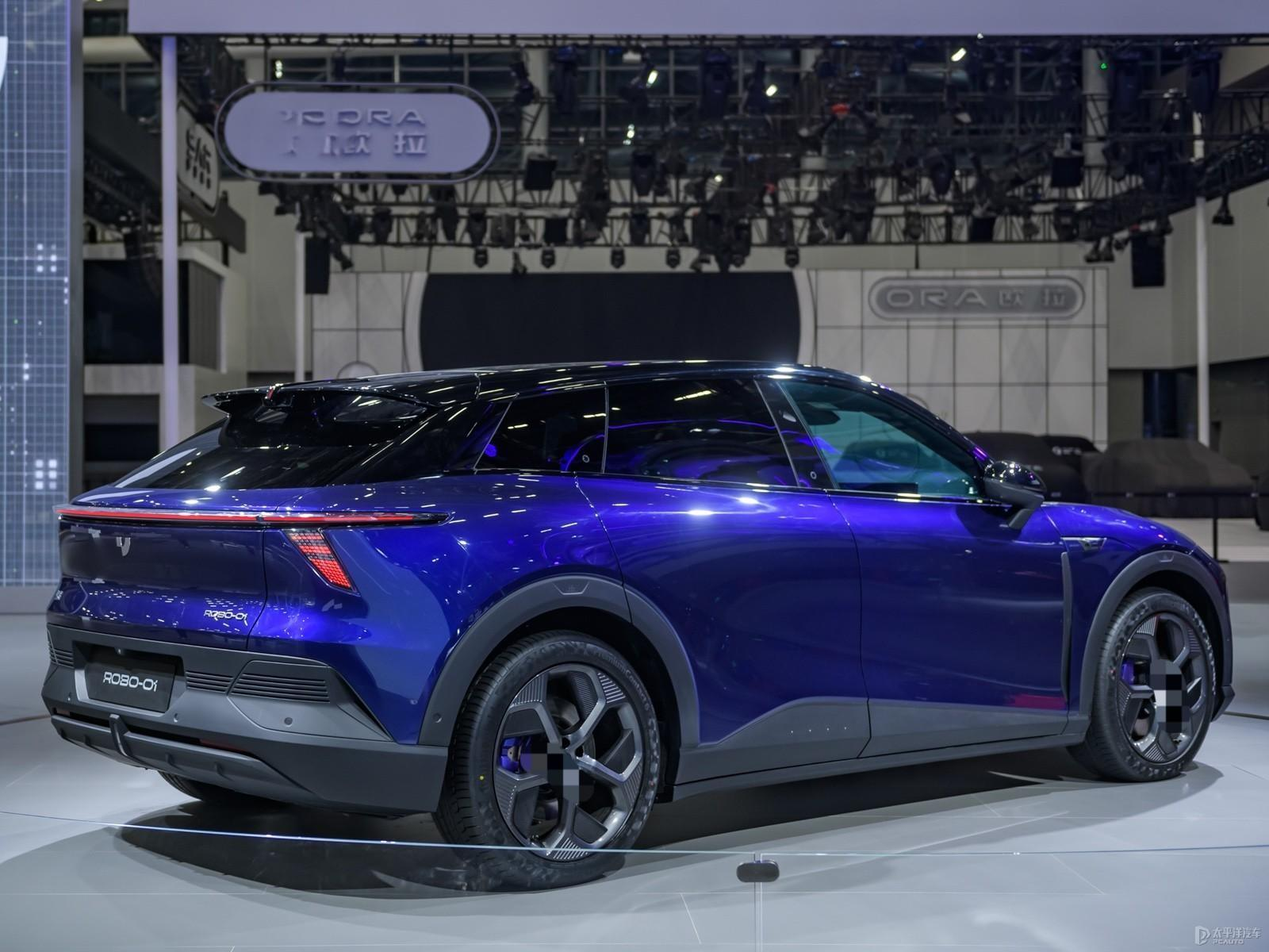JIYUE: (114, 536, 132, 559)
